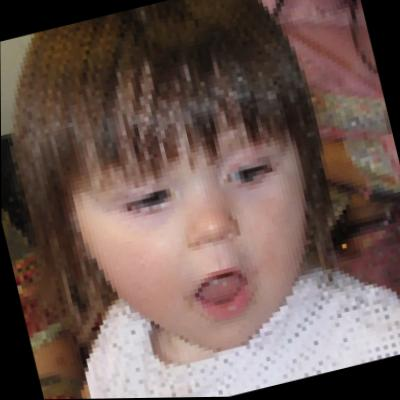surprise: (45, 38, 335, 364)
